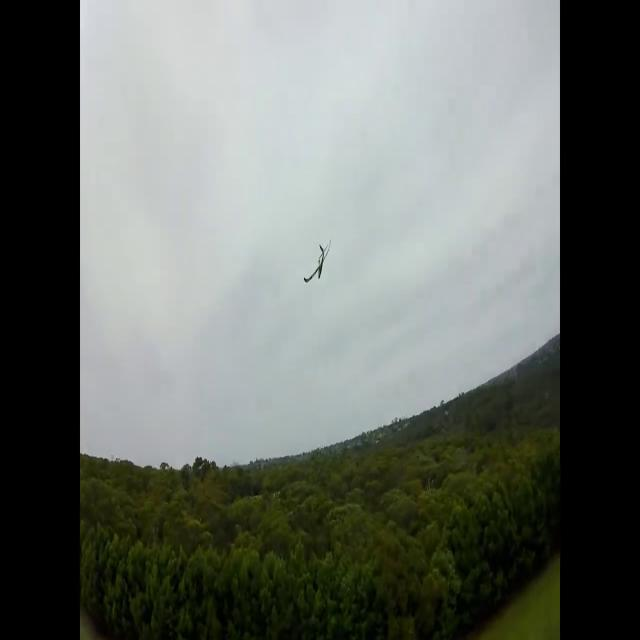iha: (305, 235, 330, 277)
